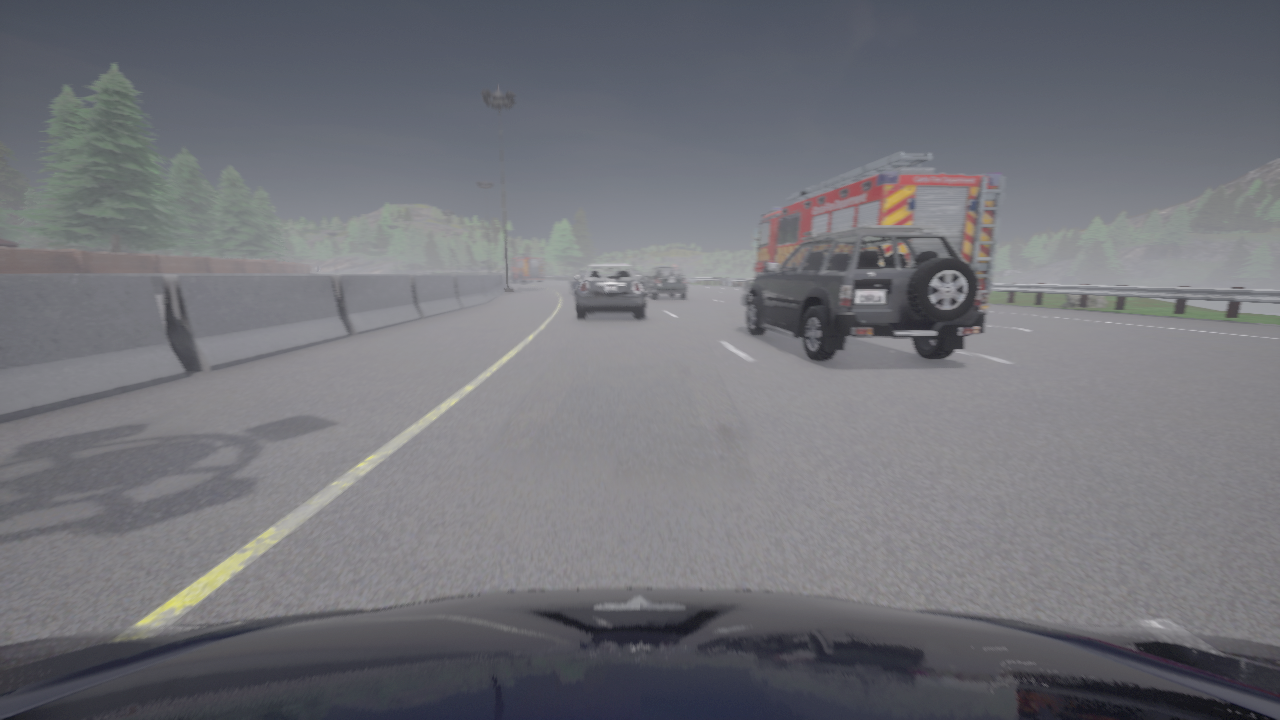cyclist: (0, 588, 1279, 719), (752, 152, 1004, 309), (742, 226, 986, 361), (575, 264, 645, 319), (643, 266, 687, 298), (509, 252, 545, 282), (569, 271, 585, 294), (633, 269, 645, 284)
